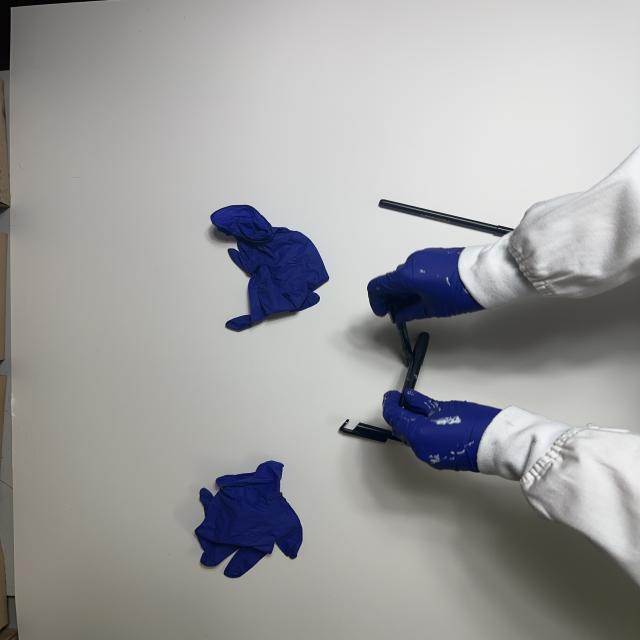gloves_contaminated: (384, 390, 501, 472), (368, 248, 484, 322)
